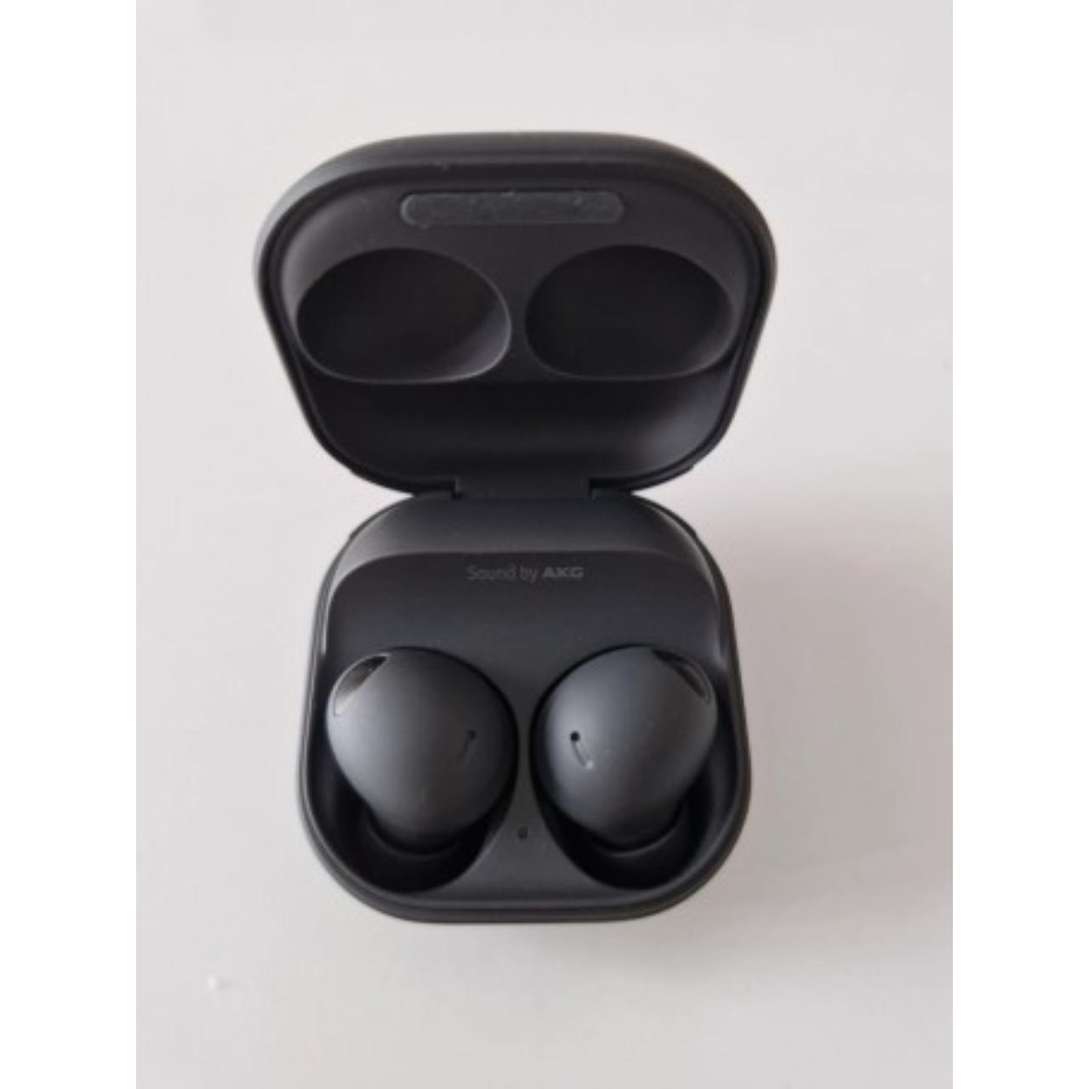Buds: (245, 127, 781, 932)
Buds_Units: (313, 639, 526, 895), (535, 636, 733, 886)
